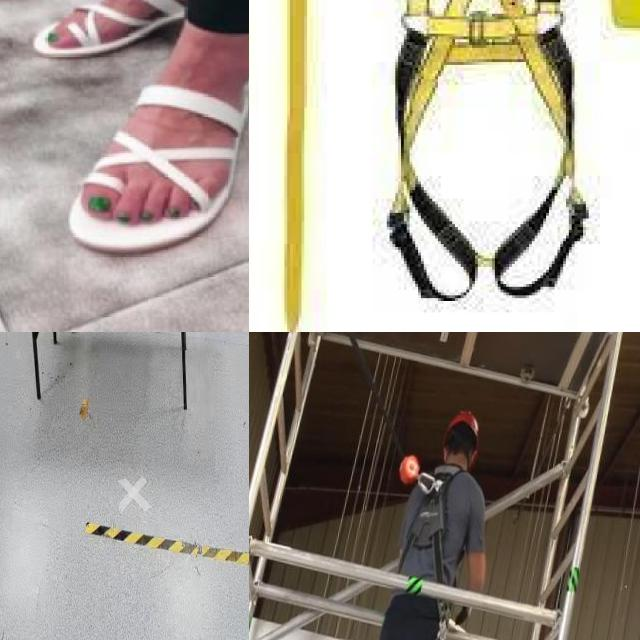Harness: (384, 0, 586, 302), (402, 468, 463, 584)
Sandals: (66, 12, 249, 257)
